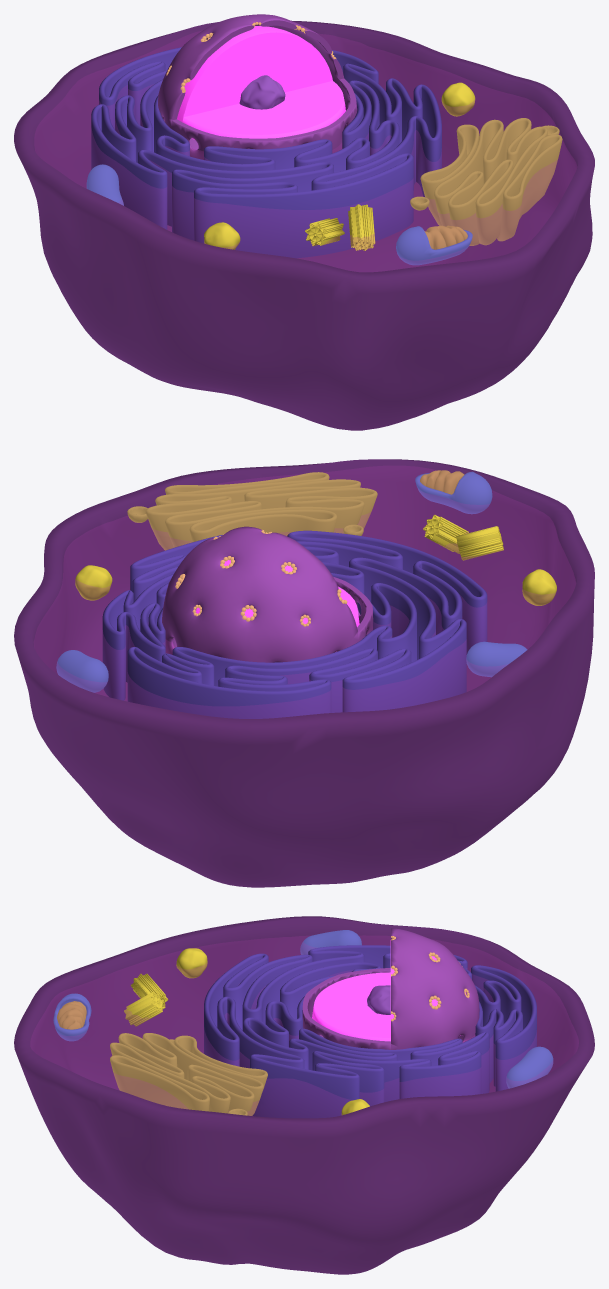
File: animal_cell_final.glb
3 renders of one model, top to bottom at view 1: azimuth 30°, elevation 25°; view 2: azimuth 150°, elevation 25°; view 3: azimuth 270°, elevation 25°, orthographic. The views are drawn at different scales.
Visible parts, largest first — view 1: Sphere_0, BezierCurve_0, Sphere.001_0, Roundcube_0, BezierCurve.002_0, Icosphere_0, Roundcube.000_0, Sphere.002_0, Roundcube.001_0, Sphere.005_0; view 2: Sphere_0, BezierCurve_0, Sphere.001_0, Icosphere_0, BezierCurve.002_0, Sphere.002_0, Roundcube.000_0, Icosphere.002_0, Sphere.005_0; view 3: Sphere_0, BezierCurve_0, Sphere.001_0, Icosphere_0, BezierCurve.002_0, Roundcube_0, Sphere.002_0, Roundcube.000_0, Sphere.005_0, Roundcube.001_0.
Boxes of the visible parts, bbox=[...] form: Sphere_0: bbox=[14, 20, 594, 430]; BezierCurve_0: bbox=[91, 47, 441, 258]; Sphere.001_0: bbox=[35, 31, 576, 271]; Roundcube_0: bbox=[177, 26, 345, 139]; BezierCurve.002_0: bbox=[410, 118, 562, 245]; Icosphere_0: bbox=[158, 14, 357, 159]; Roundcube.000_0: bbox=[204, 82, 475, 250]; Sphere.002_0: bbox=[86, 164, 472, 265]; Roundcube.001_0: bbox=[239, 75, 285, 109]; Sphere.005_0: bbox=[424, 225, 467, 249]; Sphere_0: bbox=[14, 459, 594, 887]; BezierCurve_0: bbox=[102, 530, 487, 718]; Sphere.001_0: bbox=[34, 466, 575, 718]; Icosphere_0: bbox=[162, 526, 373, 662]; BezierCurve.002_0: bbox=[127, 472, 377, 550]; Sphere.002_0: bbox=[56, 471, 527, 692]; Roundcube.000_0: bbox=[75, 514, 556, 605]; Icosphere.002_0: bbox=[175, 530, 347, 626]; Sphere.005_0: bbox=[420, 470, 464, 494]; Sphere_0: bbox=[14, 916, 594, 1274]; BezierCurve_0: bbox=[204, 945, 536, 1118]; Sphere.001_0: bbox=[31, 936, 578, 1117]; Icosphere_0: bbox=[302, 928, 479, 1049]; BezierCurve.002_0: bbox=[110, 1033, 267, 1115]; Roundcube_0: bbox=[312, 940, 466, 1041]; Sphere.002_0: bbox=[53, 930, 553, 1088]; Roundcube.000_0: bbox=[124, 948, 369, 1115]; Sphere.005_0: bbox=[57, 1001, 86, 1029]; Roundcube.001_0: bbox=[367, 985, 390, 1014].
Size of the model in its own units: 5.96 by 3.98 by 7.05.
Materials: 11 (8 with a texture image).
